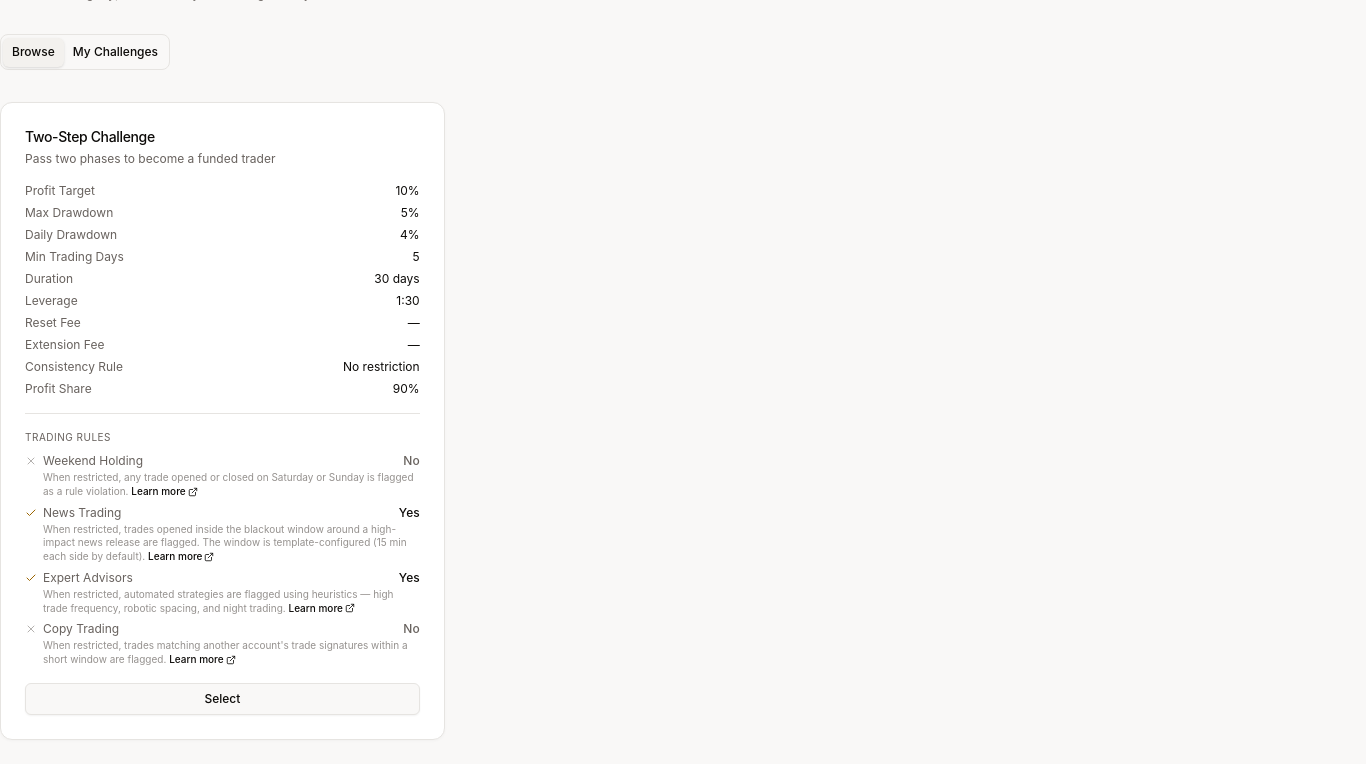
it: Challenges Page › Coupon Flow › renders coupon input and Apply button in dialog
(page scrolled)
Click the button "Select" at x=222, y=699, box [25, 683, 420, 715]
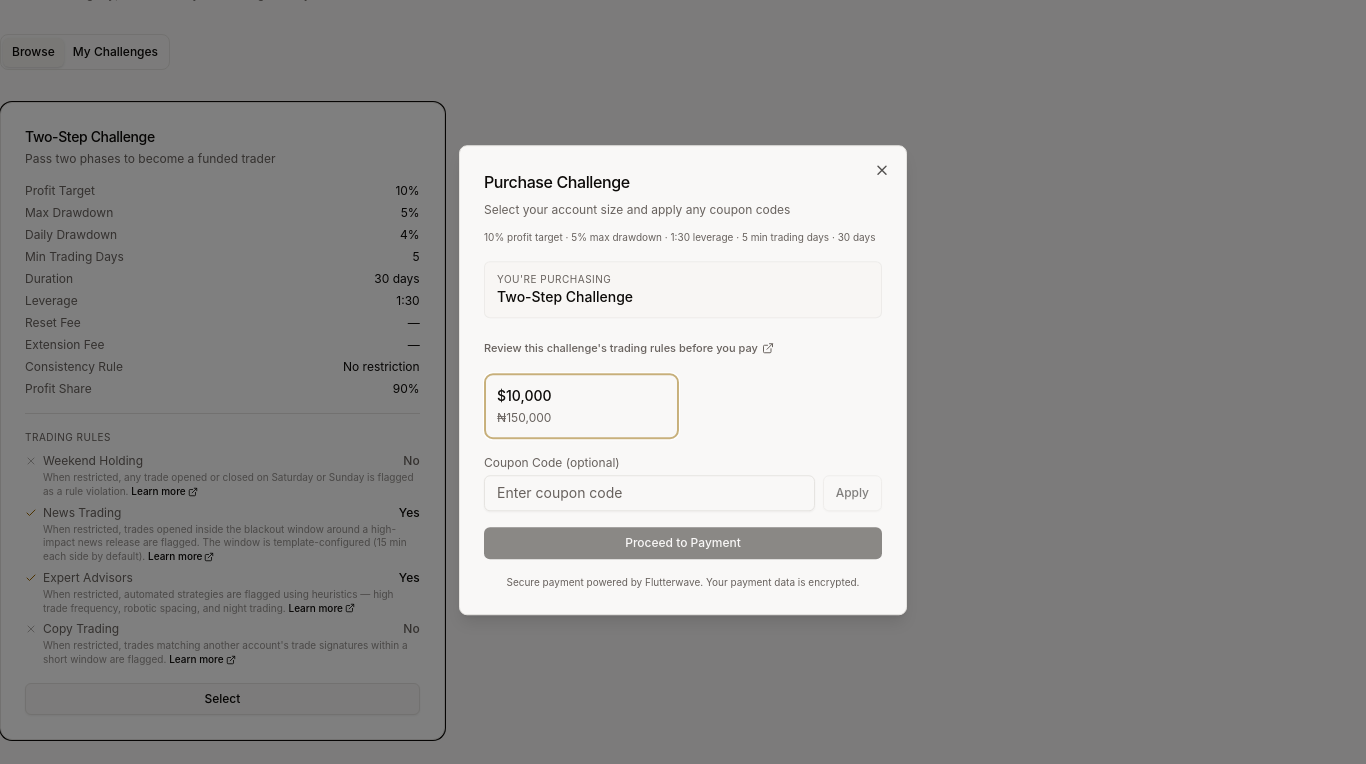
expect the field with placeholder "Enter coupon code" is shown: met, box [484, 475, 815, 511]
expect the button "Apply" is shown: met, box [823, 475, 882, 511]
